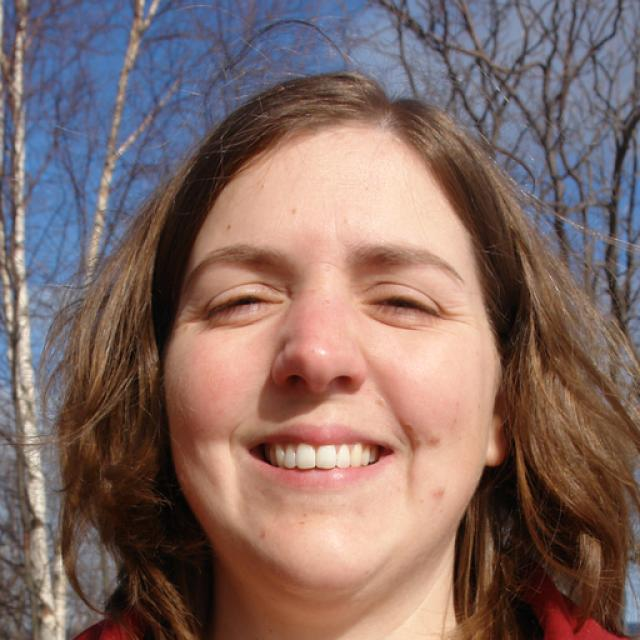Acne: (396, 421, 423, 450), (427, 477, 449, 498), (426, 426, 446, 448), (371, 390, 387, 409)
